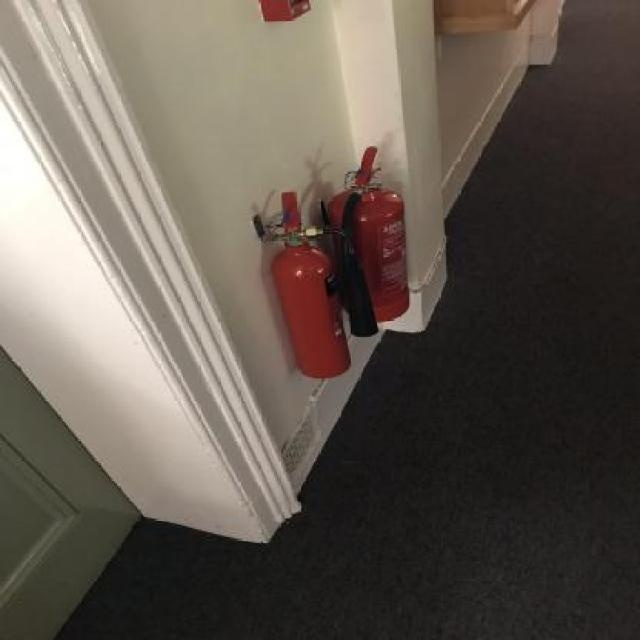fire extinguisher: (272, 194, 380, 378), (326, 146, 412, 322)
